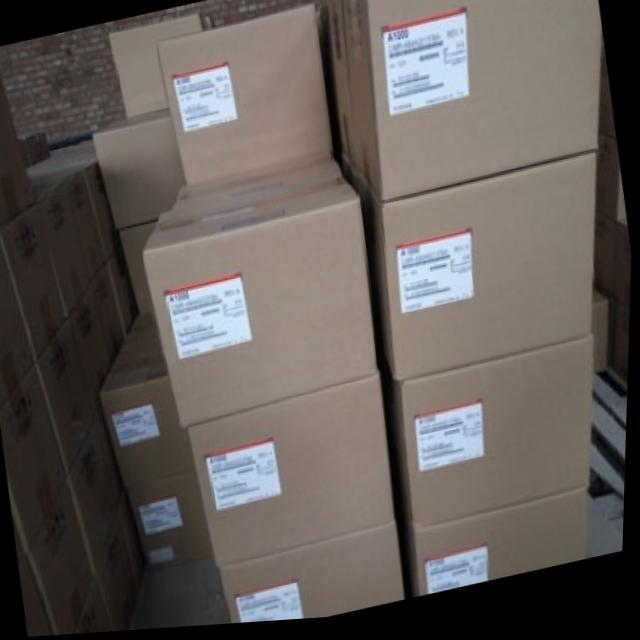box: (143, 183, 381, 431), (340, 0, 603, 210), (363, 156, 598, 387), (189, 377, 398, 573), (387, 343, 594, 533), (158, 7, 335, 187), (407, 496, 593, 604), (222, 525, 410, 627), (100, 315, 198, 491), (158, 155, 345, 226), (1, 364, 69, 552), (29, 140, 123, 260), (94, 110, 185, 232), (0, 204, 68, 361), (30, 479, 97, 636), (108, 15, 204, 119), (37, 317, 98, 476), (27, 167, 108, 283), (129, 474, 216, 575), (68, 423, 123, 578), (35, 180, 93, 317), (68, 281, 115, 421), (0, 245, 37, 410), (0, 70, 38, 226), (99, 515, 144, 633), (325, 10, 357, 172), (93, 262, 128, 363), (119, 225, 156, 316), (98, 405, 128, 513), (108, 246, 142, 340), (22, 549, 57, 638), (123, 493, 150, 601), (598, 144, 628, 230), (78, 576, 114, 635), (595, 221, 618, 306), (613, 227, 633, 321), (600, 40, 616, 149), (613, 306, 632, 393), (595, 293, 613, 382), (18, 130, 52, 166), (342, 158, 364, 208), (15, 513, 26, 563)
